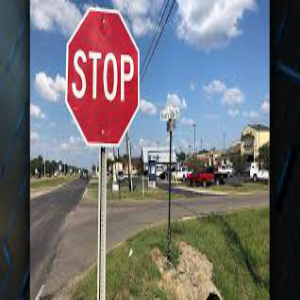STOP_SIGN: (64, 7, 140, 145)
